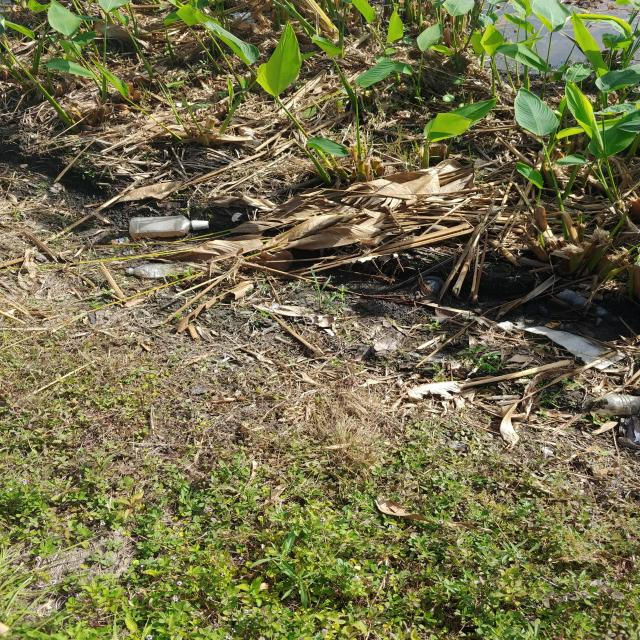litter: (129, 215, 210, 239), (129, 261, 196, 278)
